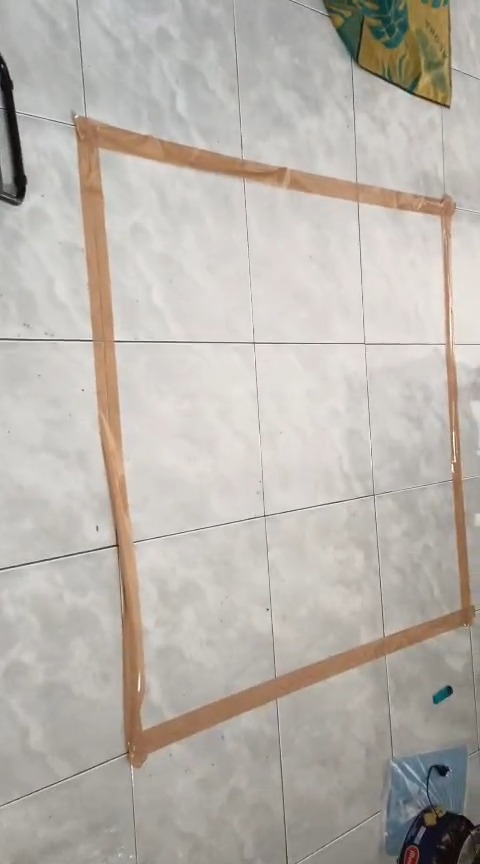floor marking: (75, 116, 473, 766)
